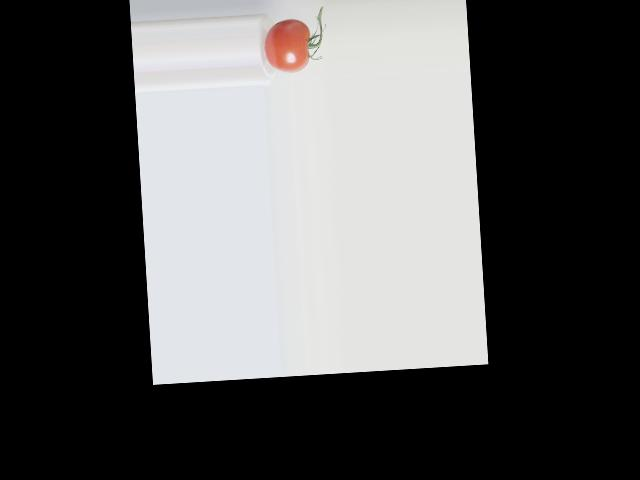tomato: (262, 17, 312, 73)
